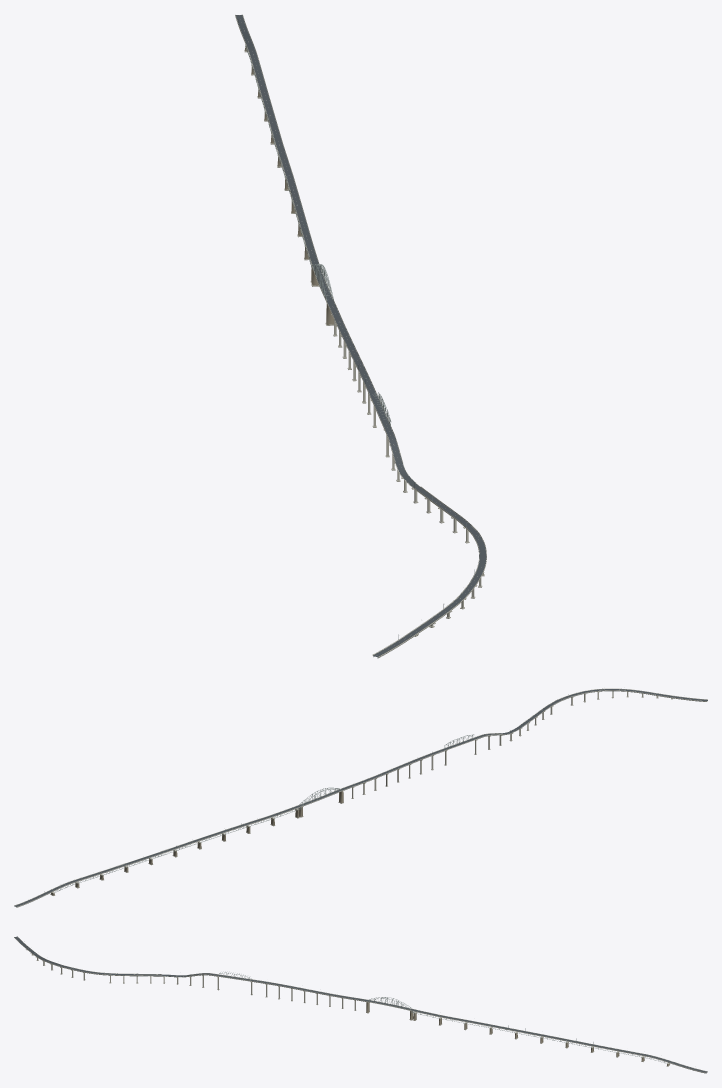
File: pont-honore-mercier-downstream-near.glb
3 renders of one model, top to bottom at view 1: azimuth 30°, elevation 25°; view 2: azimuth 150°, elevation 25°; view 3: azimuth 270°, elevation 25°, orthographic. The views are drawn at different scales.
Visible parts, largest first — view 1: pont-honore-mercier-downstream-0-asphalt, pont-honore-mercier-downstream-0-concrete, pont-honore-mercier-downstream-1-concrete; view 2: pont-honore-mercier-downstream-0-concrete, pont-honore-mercier-downstream-0-asphalt, pont-honore-mercier-downstream-1-concrete, pont-honore-mercier-downstream-0-steel, pont-honore-mercier-downstream-1-steel; view 3: pont-honore-mercier-downstream-0-concrete, pont-honore-mercier-downstream-0-asphalt, pont-honore-mercier-downstream-1-concrete, pont-honore-mercier-downstream-0-steel, pont-honore-mercier-downstream-1-steel.
Part boxes in pixels (<box>): pont-honore-mercier-downstream-0-asphalt: <box>235,15,486,657</box>; pont-honore-mercier-downstream-0-concrete: <box>235,14,486,657</box>; pont-honore-mercier-downstream-1-concrete: <box>325,302,486,587</box>; pont-honore-mercier-downstream-0-concrete: <box>14,688,707,907</box>; pont-honore-mercier-downstream-0-asphalt: <box>14,689,707,906</box>; pont-honore-mercier-downstream-1-concrete: <box>338,691,599,803</box>; pont-honore-mercier-downstream-0-steel: <box>14,789,324,907</box>; pont-honore-mercier-downstream-1-steel: <box>322,691,707,797</box>; pont-honore-mercier-downstream-0-concrete: <box>14,936,707,1073</box>; pont-honore-mercier-downstream-0-asphalt: <box>14,936,707,1072</box>; pont-honore-mercier-downstream-1-concrete: <box>60,967,369,1013</box>; pont-honore-mercier-downstream-0-steel: <box>387,997,707,1073</box>; pont-honore-mercier-downstream-1-steel: <box>44,961,387,1005</box>.
Size of the model in its own units: 840 by 55.45 by 1805.
